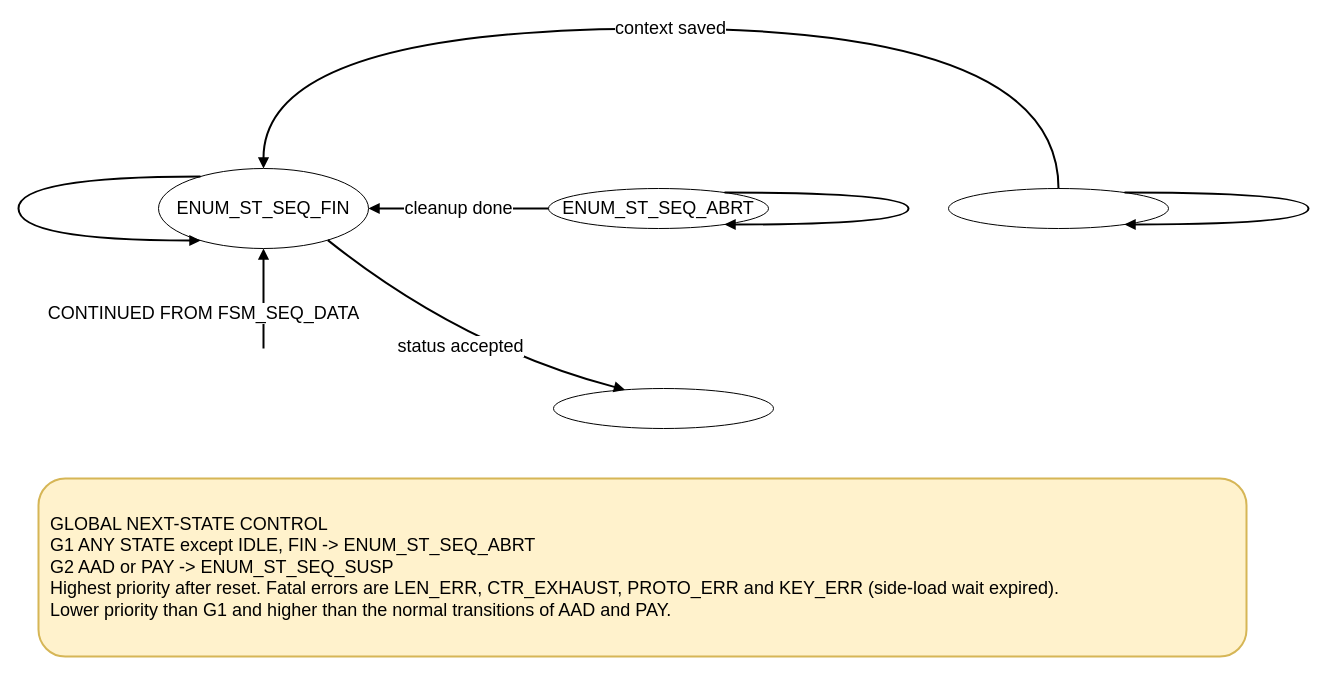
Some shapes in this 1326 by 674 pixel diagram are drawn without their labels. The shapes that lost their labels are listed below. From the top down, each one's centre as x and y in pixels, then its label:
(1058,208): ENUM_ST_SEQ_SUSP
(663,408): ENUM_ST_SEQ_IDLE
